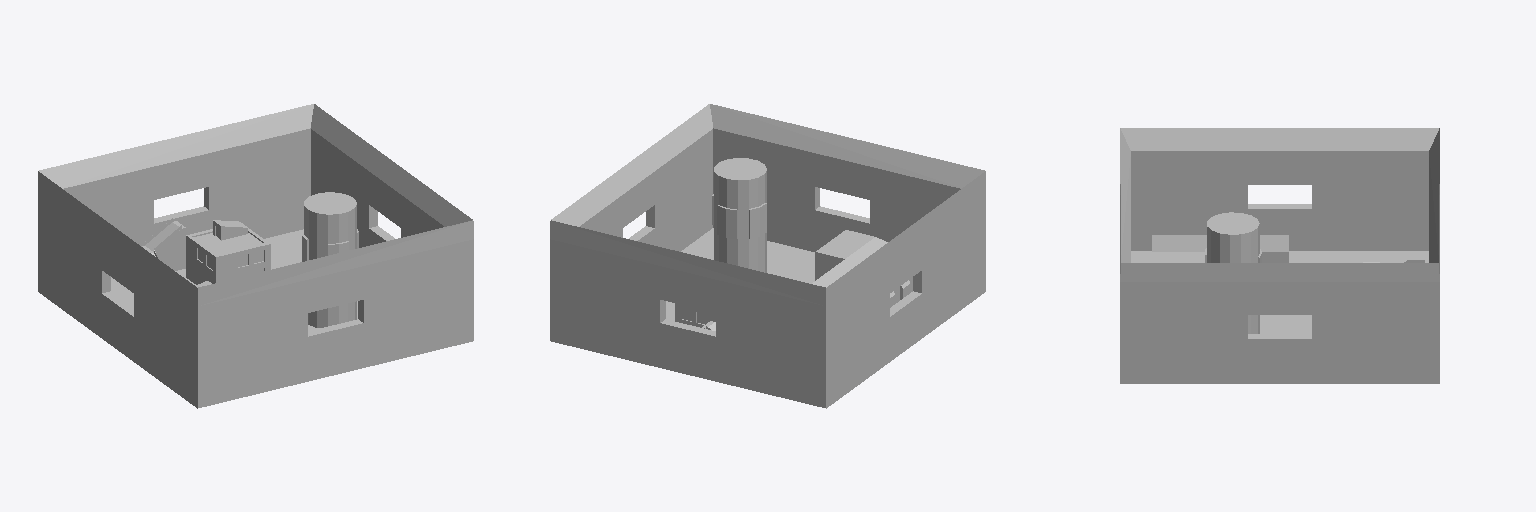
The model's file is tileEmpty.obj.
The picture shows the model from 3 angles: view 1: azimuth 30°, elevation 25°; view 2: azimuth 150°, elevation 25°; view 3: azimuth 270°, elevation 25°; orthographic projection.
Visible parts, largest first — view 1: M_Base; view 2: M_Base; view 3: M_Base.
Part boxes in pixels (x1,y1,x2,y2): M_Base: (38, 104, 473, 408); M_Base: (550, 104, 985, 408); M_Base: (1120, 128, 1439, 383).
Size of the model in its own units: 90.05 by 37.63 by 90.05.